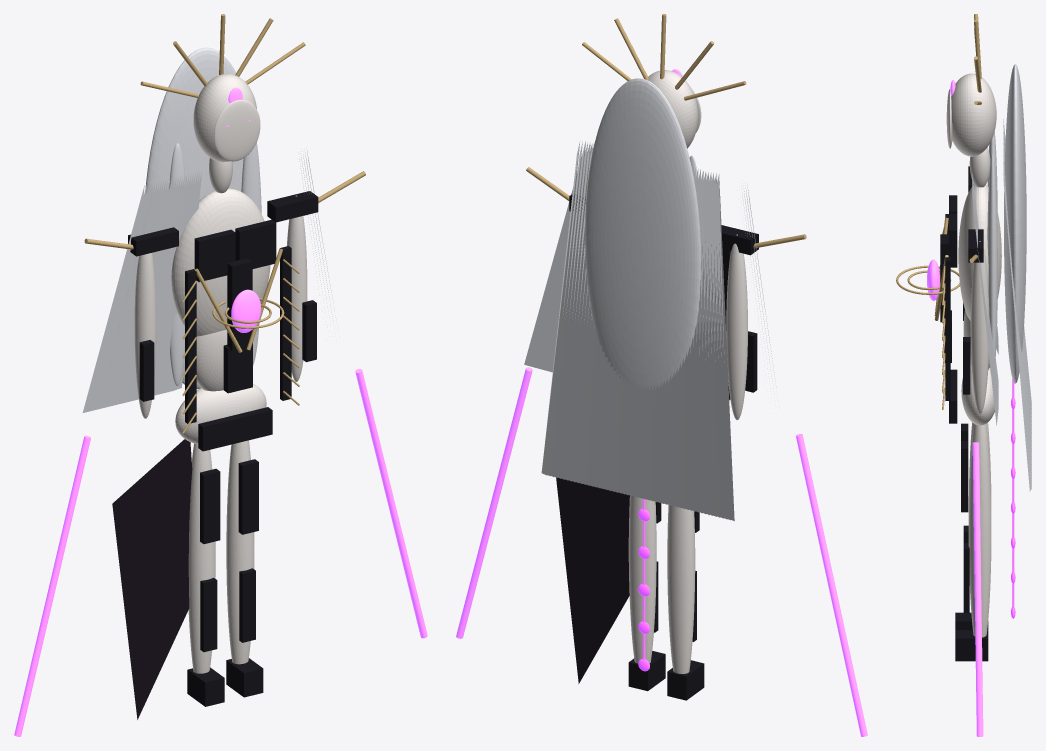
File: lilith_character.glb
The picture shows the model from 3 angles, left to right: view 1: azimuth 30°, elevation 25°; view 2: azimuth 150°, elevation 25°; view 3: azimuth 270°, elevation 25°; orthographic projection. The views are drawn at different scales.
Parts seen in each view (by area): view 1: cloak_-1, hair_back, torso, leg_R, leg_L, hips, head, blade_L, face, arm_L, arm_R, pelvis (+23 smaller); view 2: hair_back, cloak_1, leg_L, leg_R, arm_L, hair_side_109, blade_L, blade_R, head, hair_card_053, hair_card_000, hair_card_002 (+24 smaller); view 3: hair_back, leg_R, head, torso, arm_R, blade_R, hair_R, hips, boot_R, neck, hair_side_109, thigh_R (+13 smaller).
Boxes of the visible parts, x1=… form: cloak_-1: x1=112, y1=439, x2=192, y2=719; hair_back: x1=145, y1=47, x2=243, y2=388; torso: x1=171, y1=188, x2=270, y2=336; leg_R: x1=226, y1=440, x2=254, y2=664; leg_L: x1=188, y1=443, x2=215, y2=673; hips: x1=175, y1=383, x2=266, y2=444; head: x1=193, y1=73, x2=256, y2=162; blade_L: x1=14, y1=435, x2=90, y2=736; face: x1=214, y1=99, x2=260, y2=161; arm_L: x1=134, y1=253, x2=156, y2=418; arm_R: x1=287, y1=195, x2=307, y2=381; pelvis: x1=198, y1=407, x2=272, y2=451; hair_back: x1=585, y1=78, x2=701, y2=390; cloak_1: x1=556, y1=477, x2=629, y2=683; leg_L: x1=667, y1=505, x2=695, y2=673; leg_R: x1=628, y1=495, x2=656, y2=663; arm_L: x1=726, y1=234, x2=747, y2=419; hair_side_109: x1=524, y1=142, x2=585, y2=372; blade_L: x1=796, y1=434, x2=867, y2=736; blade_R: x1=456, y1=367, x2=532, y2=638; head: x1=648, y1=70, x2=698, y2=148; hair_card_053: x1=541, y1=140, x2=580, y2=475; hair_card_000: x1=715, y1=174, x2=734, y2=521; hair_card_002: x1=710, y1=173, x2=727, y2=519; hair_back: x1=1004, y1=64, x2=1026, y2=383; leg_R: x1=968, y1=424, x2=991, y2=637; head: x1=951, y1=73, x2=996, y2=156; torso: x1=958, y1=184, x2=1001, y2=320; arm_R: x1=970, y1=241, x2=989, y2=413; blade_R: x1=972, y1=442, x2=983, y2=736; hair_R: x1=987, y1=154, x2=997, y2=373; hips: x1=961, y1=367, x2=994, y2=425; boot_R: x1=955, y1=630, x2=988, y2=661; neck: x1=969, y1=147, x2=990, y2=187; hair_side_109: x1=972, y1=200, x2=998, y2=425; thigh_R: x1=961, y1=441, x2=968, y2=512.
Size of the model in its own units: 2.13 by 3.4 by 0.6555.
